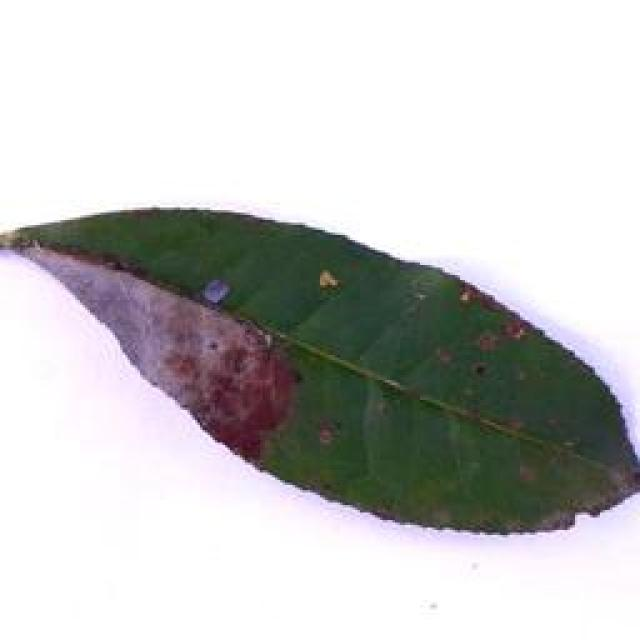Gray Blight: (0, 199, 640, 535)
